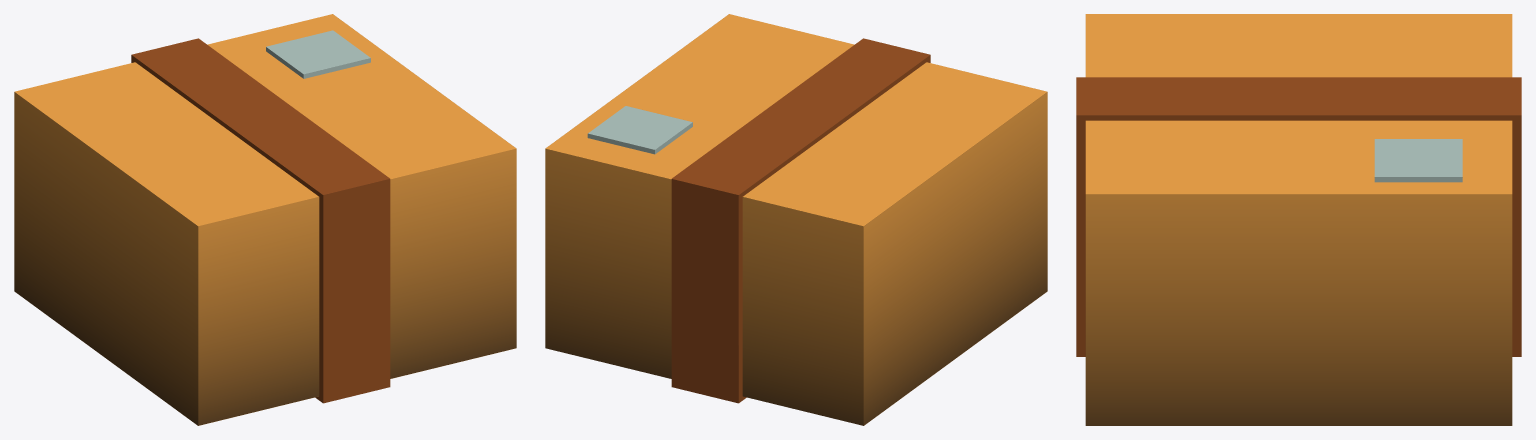
The model's file is Cardbox.glb.
The picture shows the model from 3 angles, left to right: view 1: azimuth 30°, elevation 25°; view 2: azimuth 150°, elevation 25°; view 3: azimuth 270°, elevation 25°; orthographic projection. The views are drawn at different scales.
Parts seen in each view (by area): view 1: Cube, Cube.001, Cube.002; view 2: Cube, Cube.001, Cube.002; view 3: Cube, Cube.001, Cube.002.
Part boxes in pixels (left/top/right/bottom): Cube: left=14, top=14, right=516, bottom=425; Cube.001: left=131, top=38, right=390, bottom=403; Cube.002: left=266, top=30, right=370, bottom=78; Cube: left=545, top=14, right=1047, bottom=425; Cube.001: left=671, top=38, right=930, bottom=403; Cube.002: left=587, top=106, right=692, bottom=154; Cube: left=1085, top=14, right=1512, bottom=425; Cube.001: left=1076, top=77, right=1521, bottom=356; Cube.002: left=1374, top=139, right=1462, bottom=182.
Bounding box in the file's own units: 2 × 1.25 × 2.09.
Materials: 3 (3 with a texture image).
